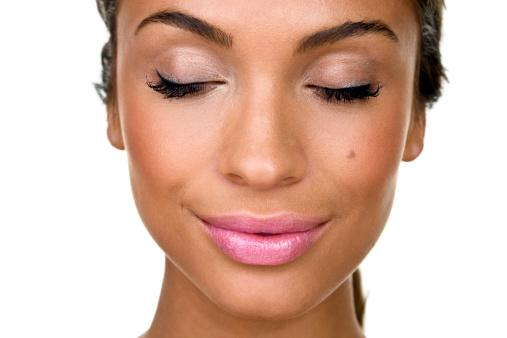mole: (342, 146, 357, 163)
